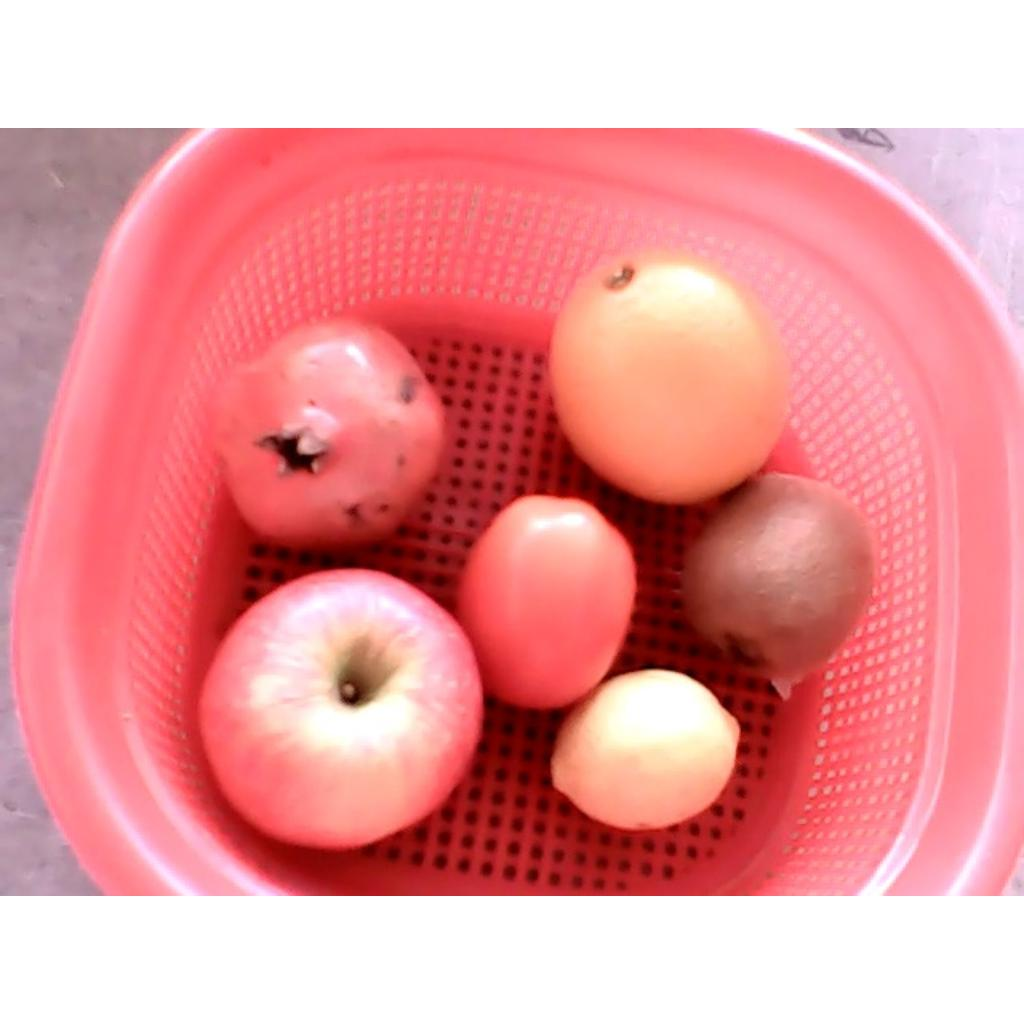apple: (198, 571, 480, 846)
kiwi: (681, 473, 878, 681)
lemon: (551, 670, 741, 830)
orange: (543, 245, 791, 504)
pomegranate: (212, 316, 442, 552)
tomato: (451, 493, 636, 709)
